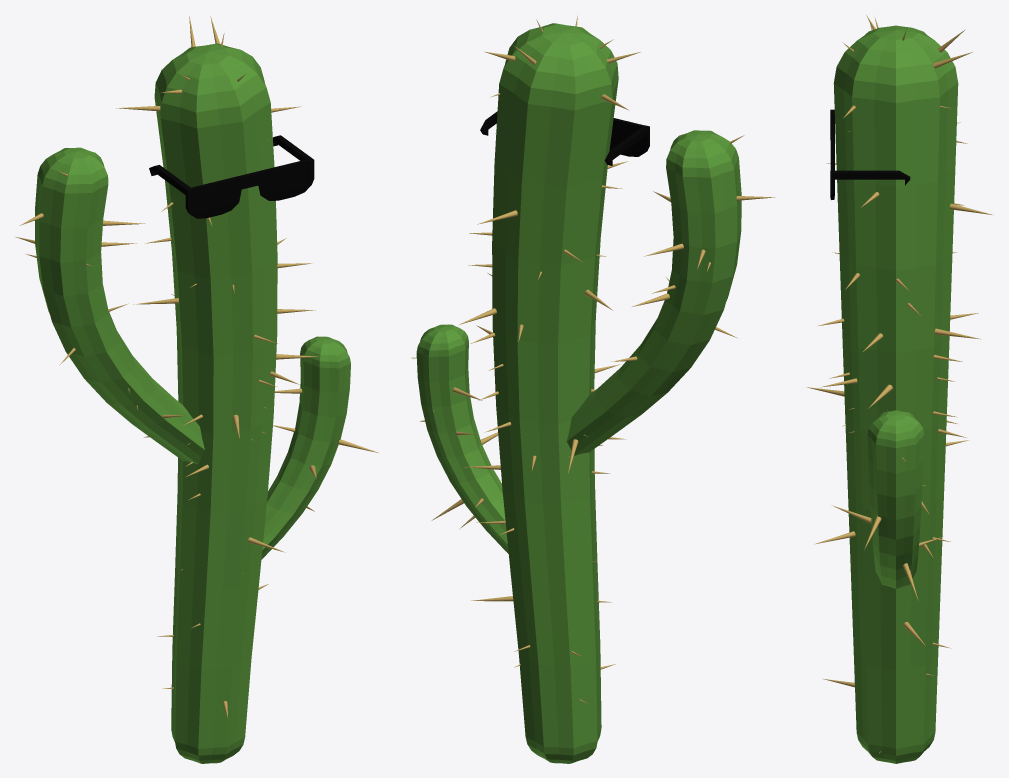
The model's file is cactus.fbx.
3 renders of one model, left to right at view 1: azimuth 30°, elevation 25°; view 2: azimuth 150°, elevation 25°; view 3: azimuth 270°, elevation 25°, orthographic. The views are drawn at different scales.
Parts seen in each view (by area): view 1: Cactus, Cube; view 2: Cactus, Cube; view 3: Cactus, Cube.
Boxes of the visible parts, x1,y1,x2,y2 form: Cactus: (16, 16, 378, 763); Cube: (149, 135, 314, 218); Cactus: (411, 14, 774, 763); Cube: (480, 111, 649, 165); Cactus: (807, 15, 992, 763); Cube: (830, 109, 910, 199).
Bounding box in the file's own units: 2413 × 4655 × 1082.
